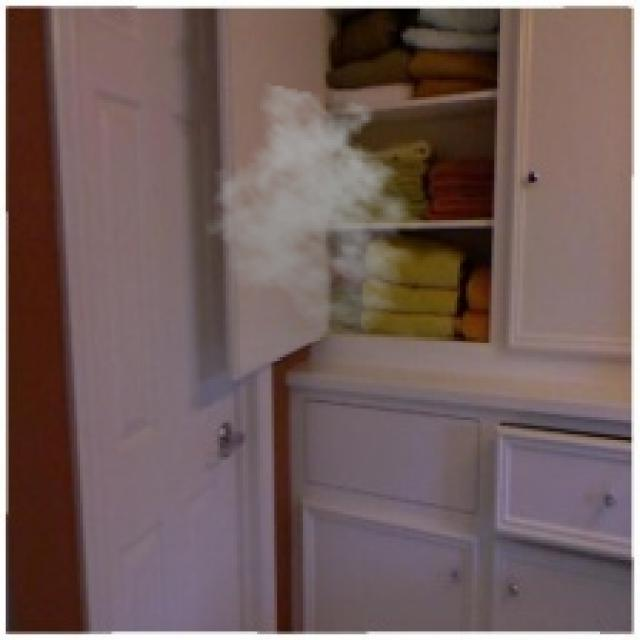Smoke: (203, 82, 434, 338)
